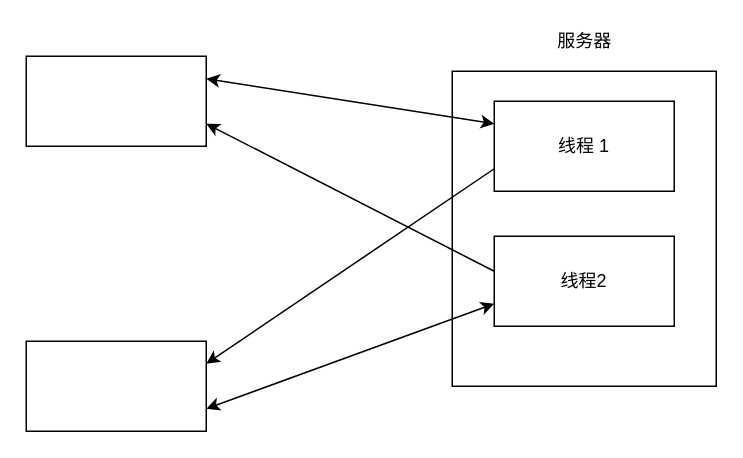
The diagram is 743 pixels wide and 458 high, and some of its shapes have lost their labels. The box of each missing label's shape, as (x1, y1, x2, y2) in pixels:
客户端 1: (25, 55, 206, 146)
客户端 2: (25, 340, 206, 431)
